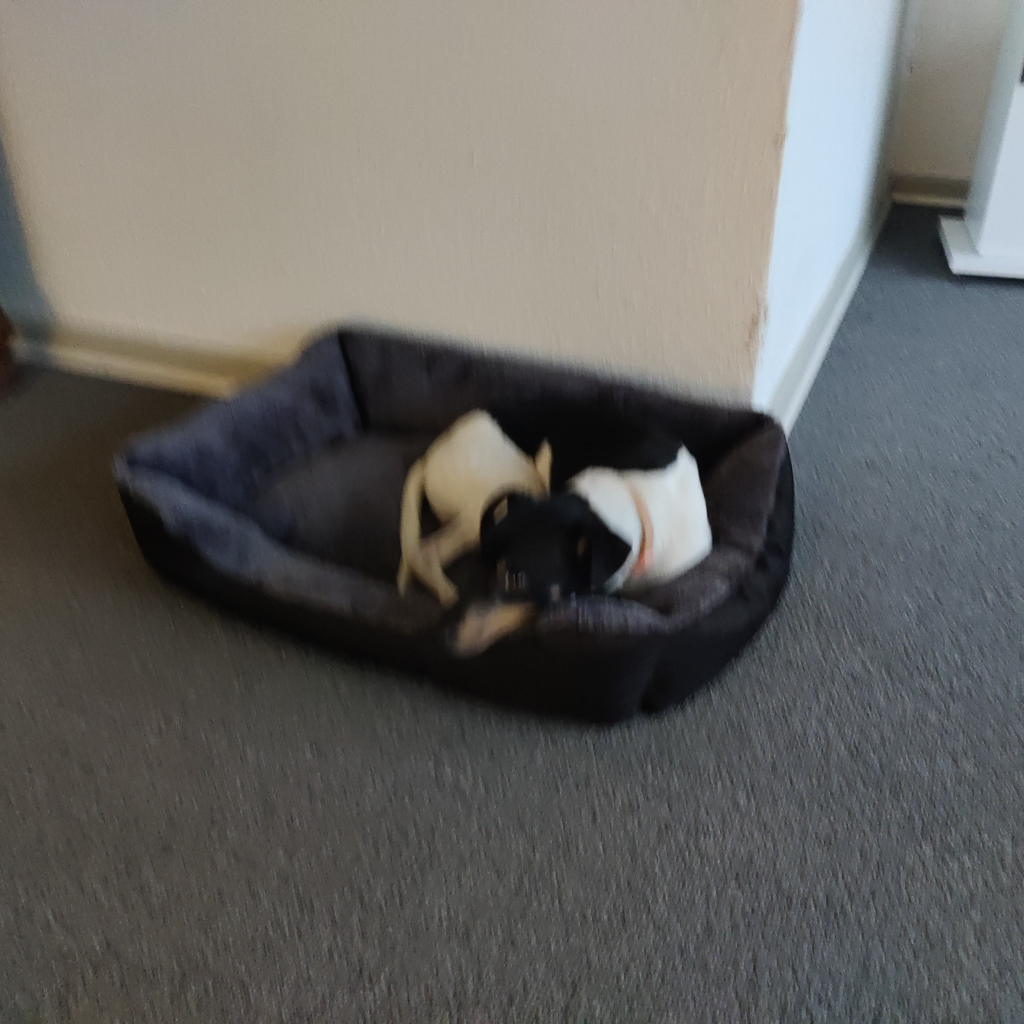Dog: (349, 366, 738, 679)
